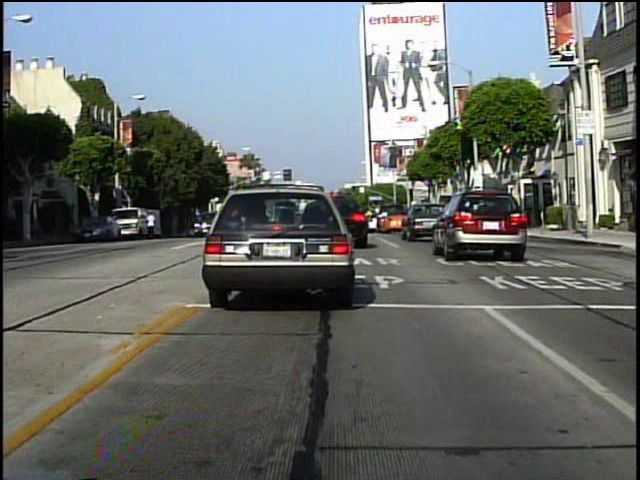person: (147, 208, 159, 240)
